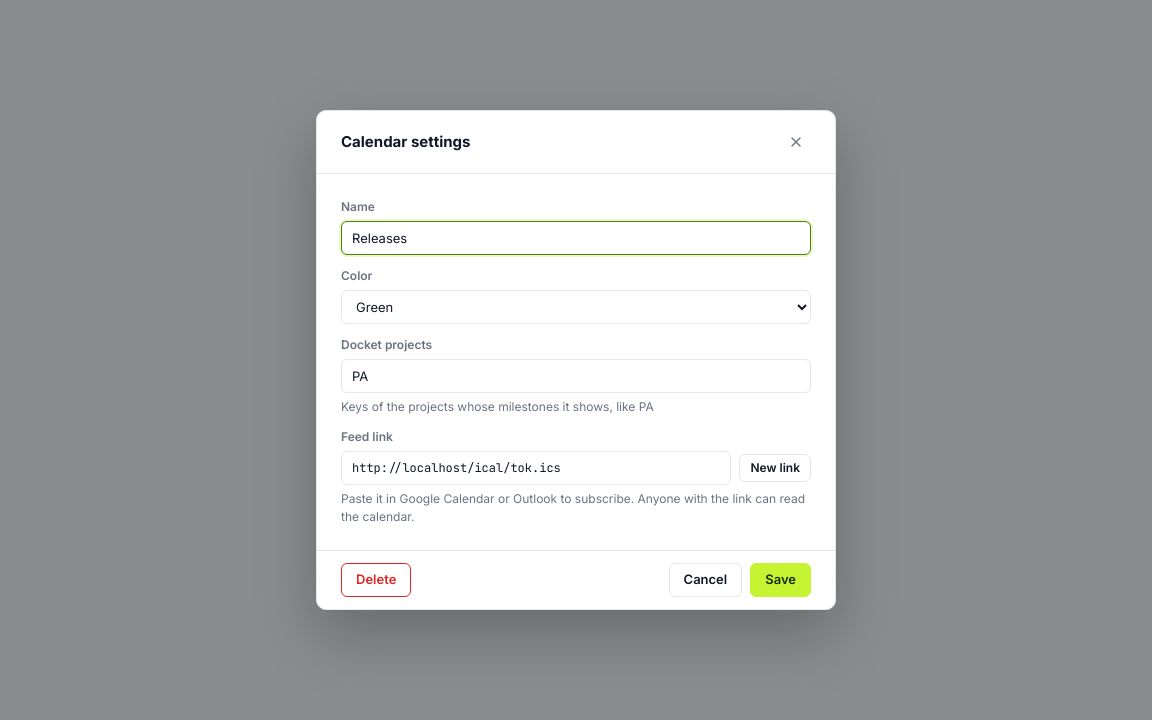
Test: CalendarSettingsDialog › shows the feed link, replaces it, and says why a save failed
Click the button "New link" at (775, 468), box [739, 454, 811, 482]
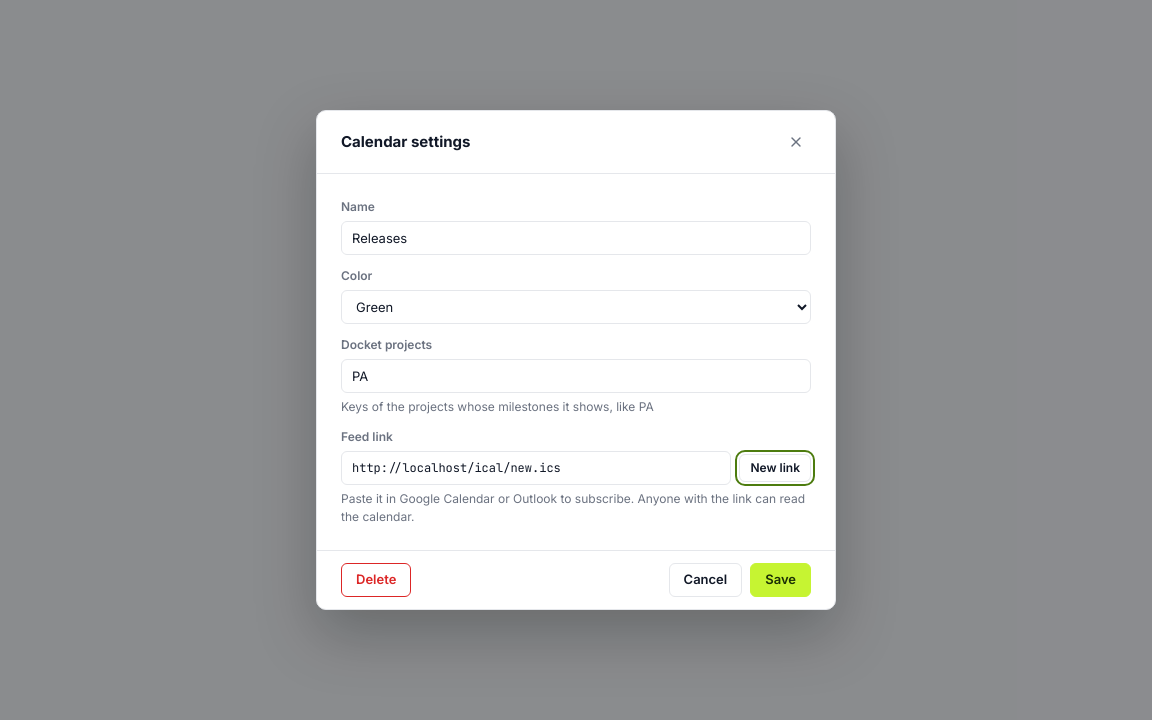
Now the field showing "/ical/new.ics" is shown, box [341, 451, 731, 485]
Click the button "Save" at (781, 580), box [750, 563, 811, 597]
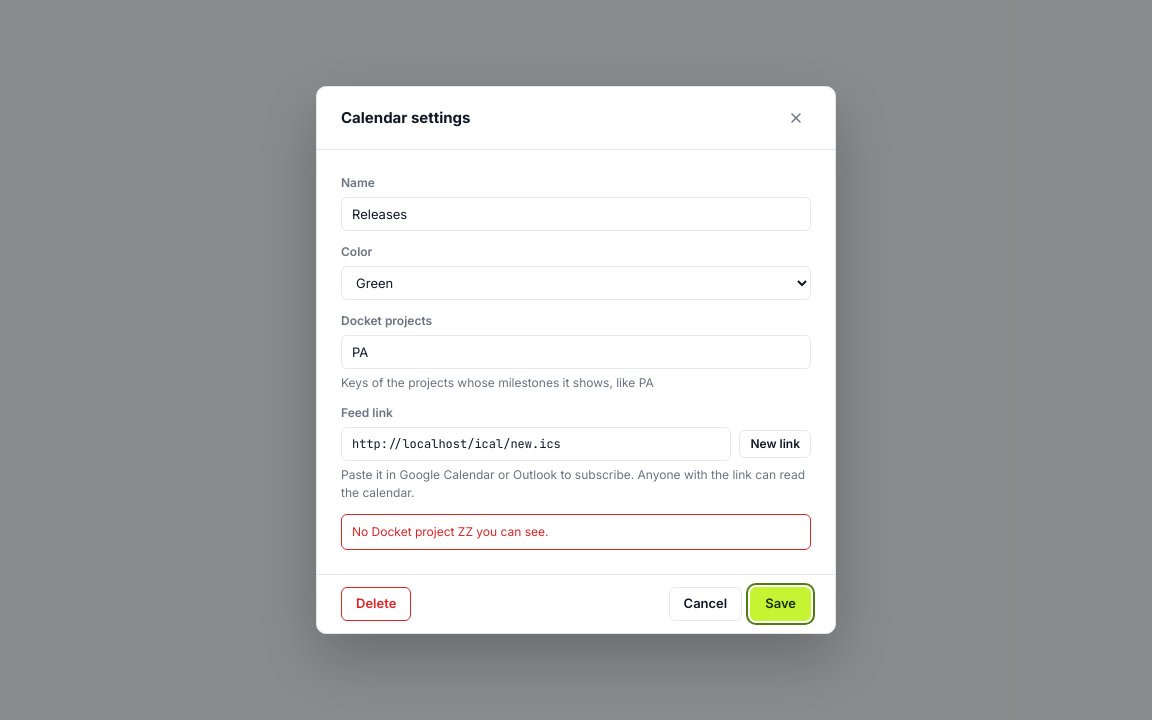
Now the message shows "ZZ", box [352, 524, 548, 539]
